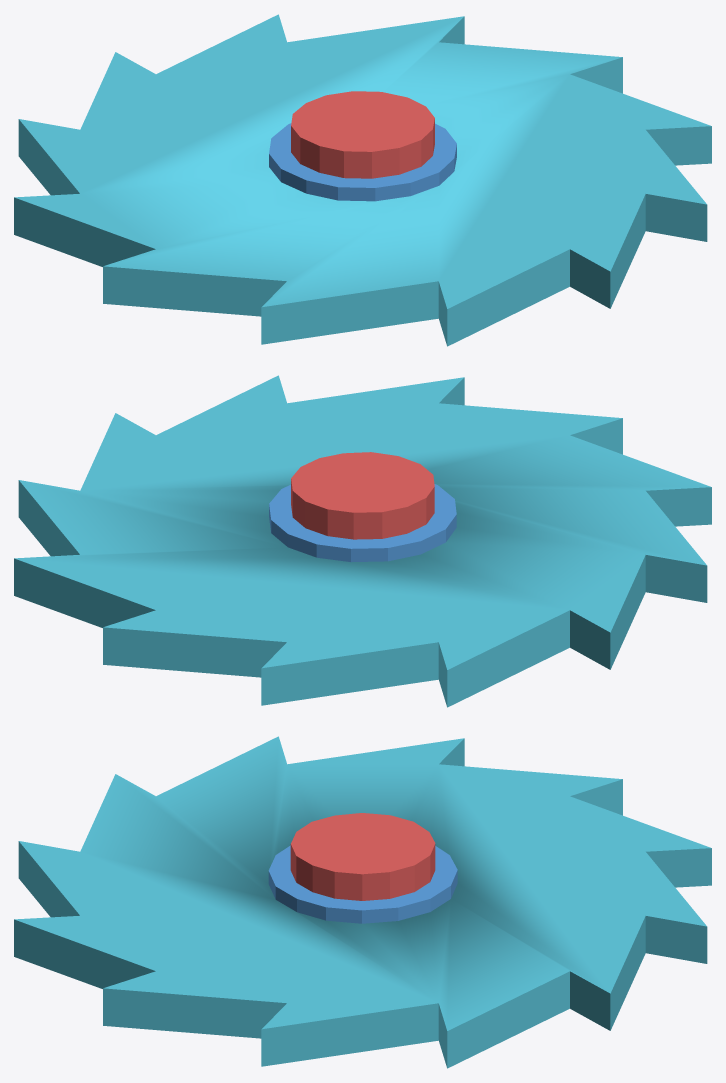
Rendered from obstacle13.fbx.
The picture shows the model from 3 angles, top to bottom: view 1: azimuth 30°, elevation 25°; view 2: azimuth 150°, elevation 25°; view 3: azimuth 270°, elevation 25°; orthographic projection.
Parts seen in each view (by area): view 1: obstacle13; view 2: obstacle13; view 3: obstacle13.
Part boxes in pixels (bbox=[...]): obstacle13: bbox=[14, 14, 711, 346]; obstacle13: bbox=[14, 375, 711, 707]; obstacle13: bbox=[14, 736, 711, 1068].
Size of the model in its own units: 102 by 12.53 by 102.
